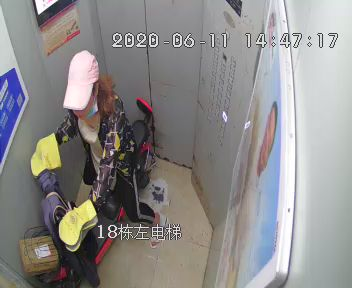Electric-bicycle: (23, 97, 153, 282)
